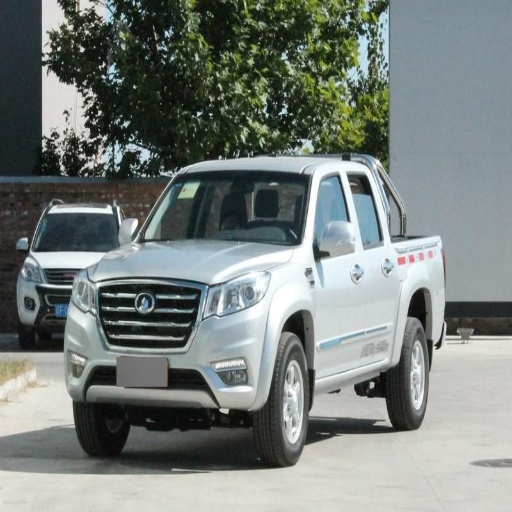front_bumper: (67, 278, 280, 413)
front_glass: (133, 172, 310, 246)
front_left_door: (313, 168, 366, 372)
trunk: (401, 238, 447, 329)
